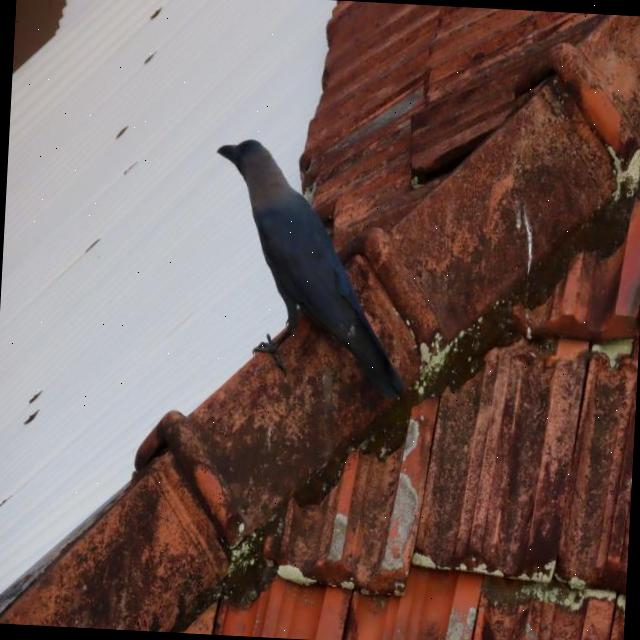crow: (202, 134, 420, 408)
